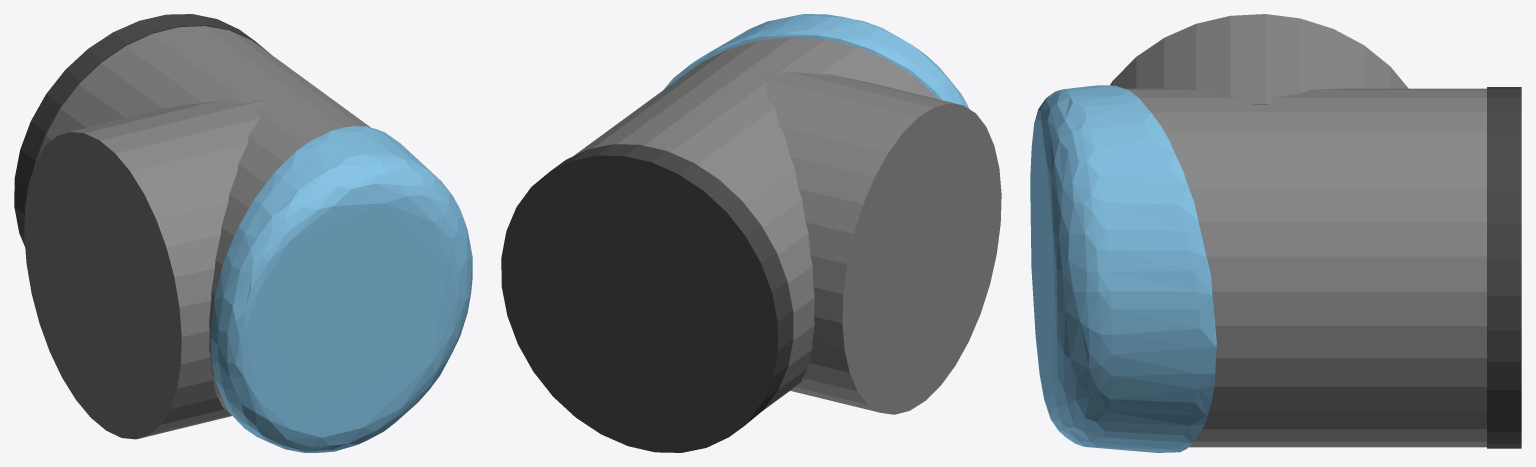
3 views of the same model, side by side, from view 1: azimuth 30°, elevation 25°; view 2: azimuth 150°, elevation 25°; view 3: azimuth 270°, elevation 25° (orthographic). The views are drawn at different scales.
Parts seen in each view (by area): view 1: Node_0000014D8EC09560 (×4); view 2: Node_0000014D8EC09560 (×4); view 3: Node_0000014D8EC09560 (×4).
Part boxes in pixels (box(x1,y1,x2,y2)): Node_0000014D8EC09560 (×4): box(14, 14, 472, 452); Node_0000014D8EC09560 (×4): box(501, 14, 1001, 452); Node_0000014D8EC09560 (×4): box(1030, 14, 1521, 452).
Bounding box in the file's own units: 0.1005 × 0.092 × 0.1231.
